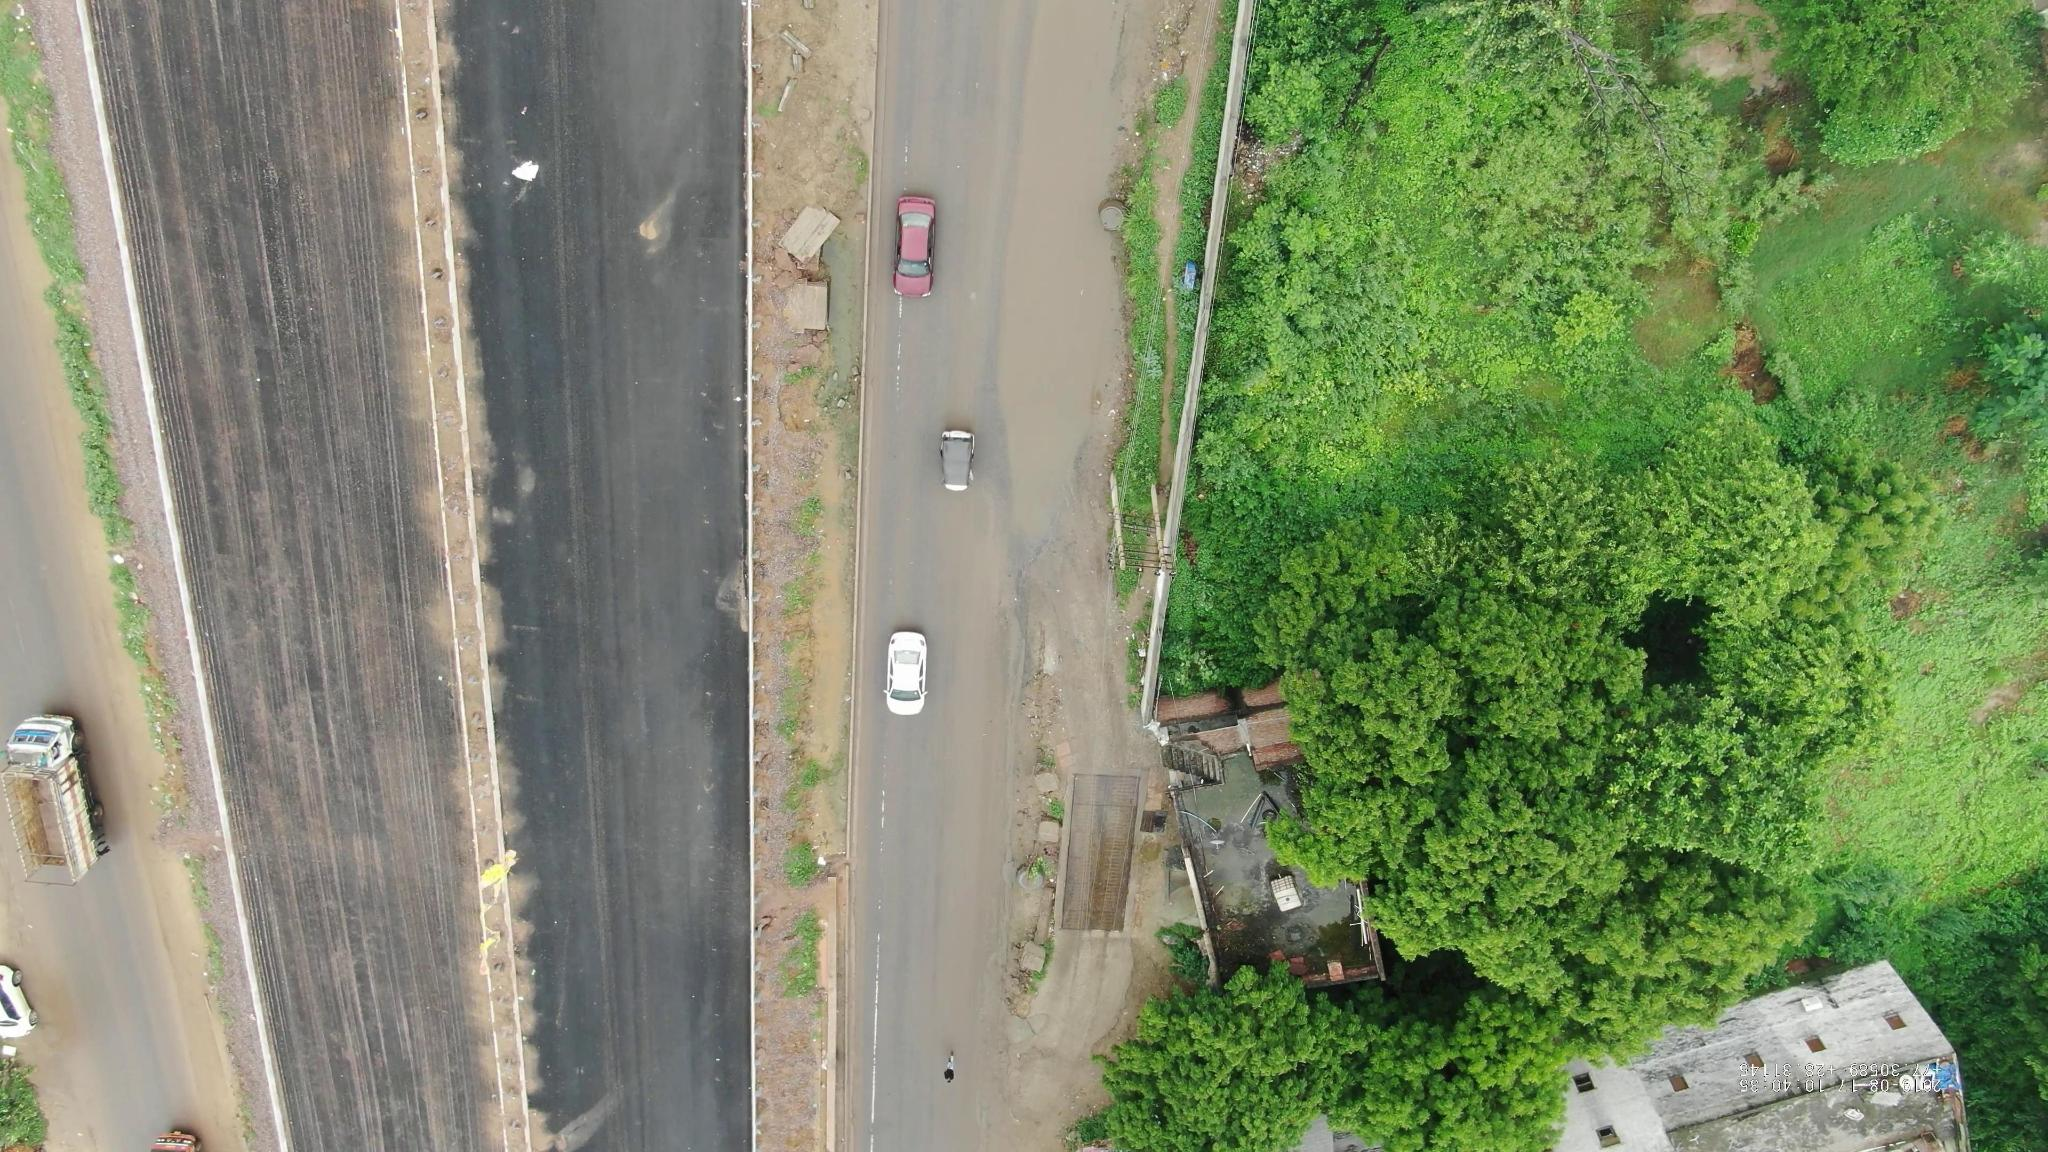Waterlogging: (992, 15, 1162, 546)
